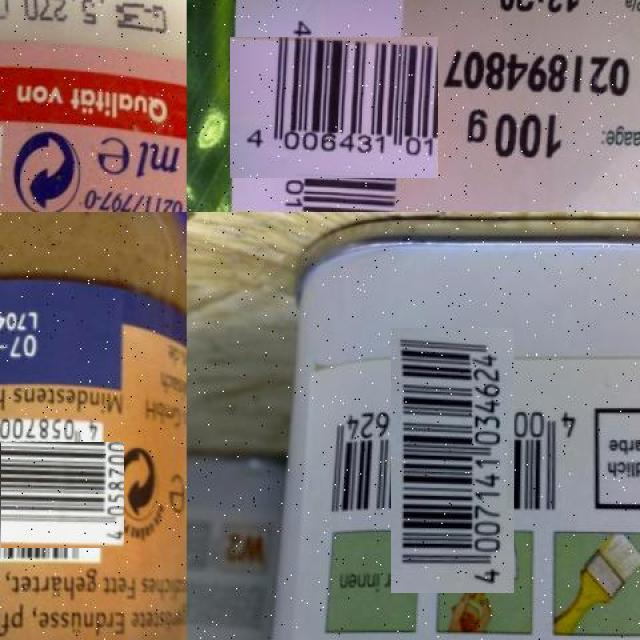Barcode: (355, 363, 550, 558), (246, 21, 422, 196), (0, 433, 116, 557)
